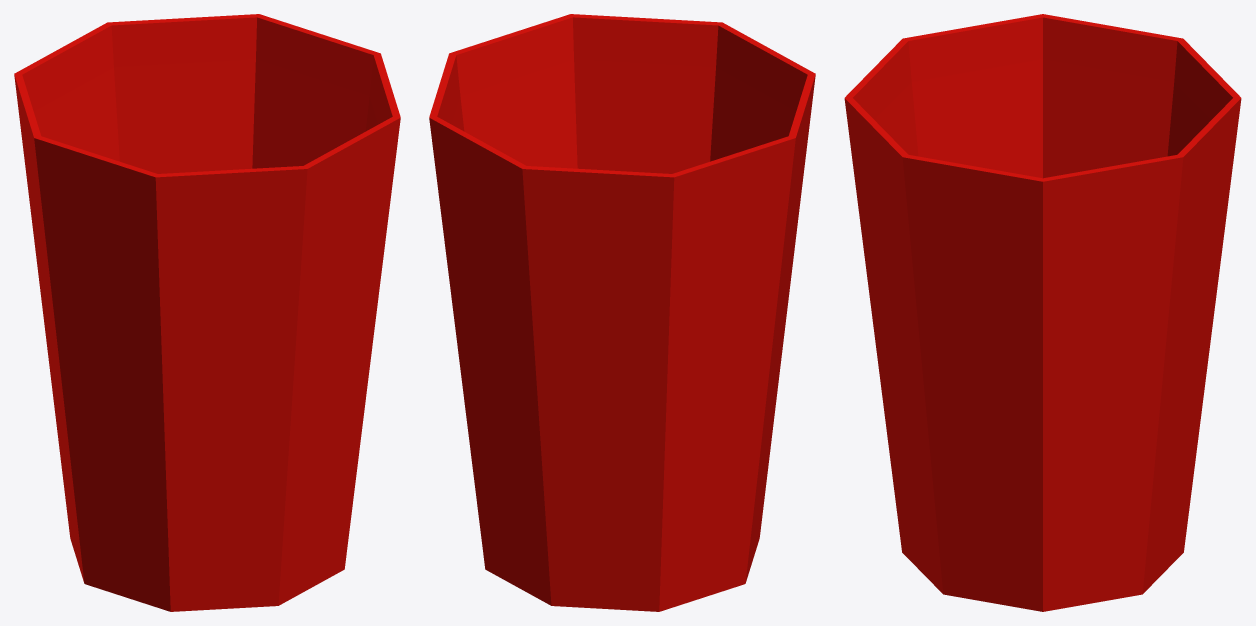
The model's file is Cup.glb.
3 renders of one model, left to right at view 1: azimuth 30°, elevation 25°; view 2: azimuth 150°, elevation 25°; view 3: azimuth 270°, elevation 25°, orthographic.
Visible parts, largest first — view 1: Cup; view 2: Cup; view 3: Cup.
Part boxes in pixels (<box>): Cup: <box>14,14,400,611</box>; Cup: <box>429,14,815,611</box>; Cup: <box>844,14,1241,611</box>.
Bounding box in the file's own units: 0.095 × 0.12 × 0.095.
